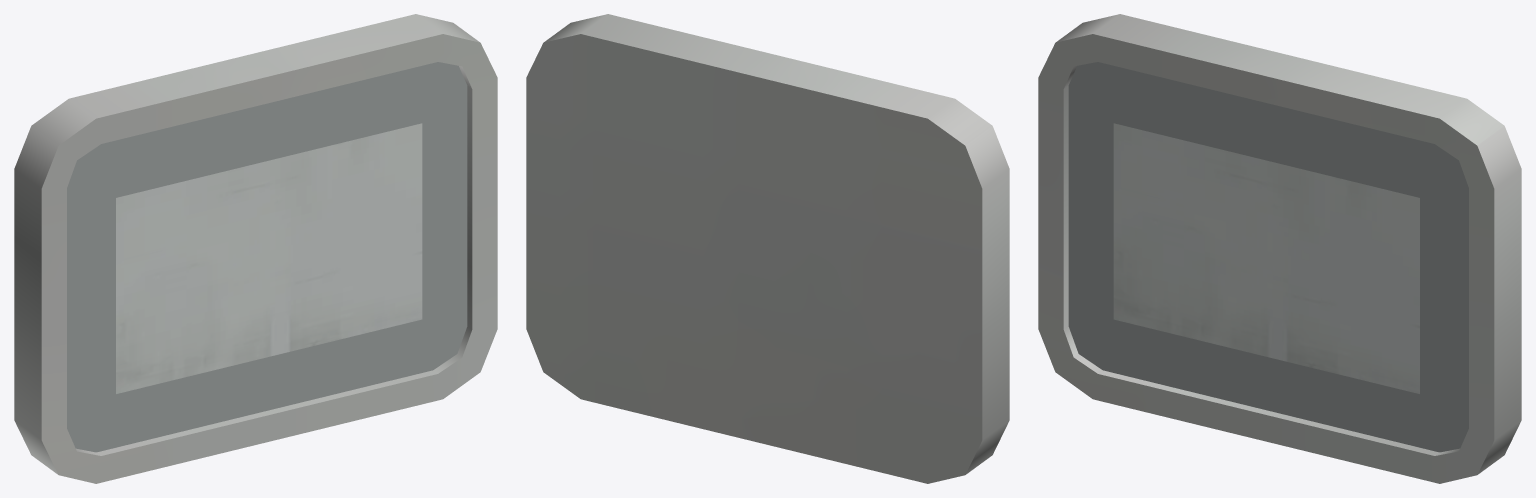
File: pm-floor-panel-05.glb
3 renders of one model, left to right at view 1: azimuth 30°, elevation 25°; view 2: azimuth 150°, elevation 25°; view 3: azimuth 330°, elevation 25°, orthographic.
Visible parts, largest first — view 1: FloorPanel05_Art; view 2: FloorPanel05_Art; view 3: FloorPanel05_Art.
Boxes of the visible parts, x1,y1,x2,y2 form: FloorPanel05_Art: (14,14,497,483); FloorPanel05_Art: (526,14,1009,483); FloorPanel05_Art: (1038,14,1521,483).
Bounding box in the file's own units: 1.19 × 0.9104 × 0.1233.
Materials: 2 (2 with a texture image).
